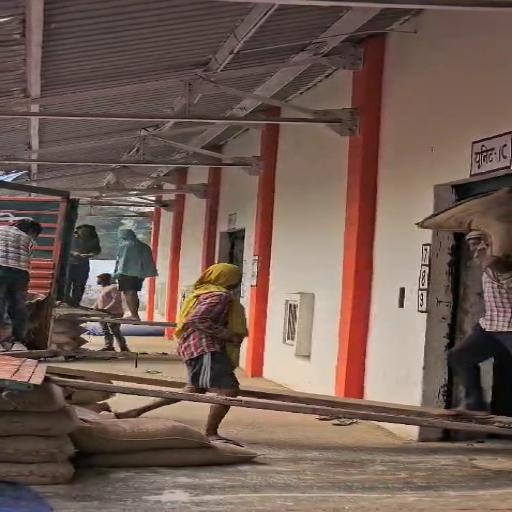bag: (415, 178, 512, 266)
